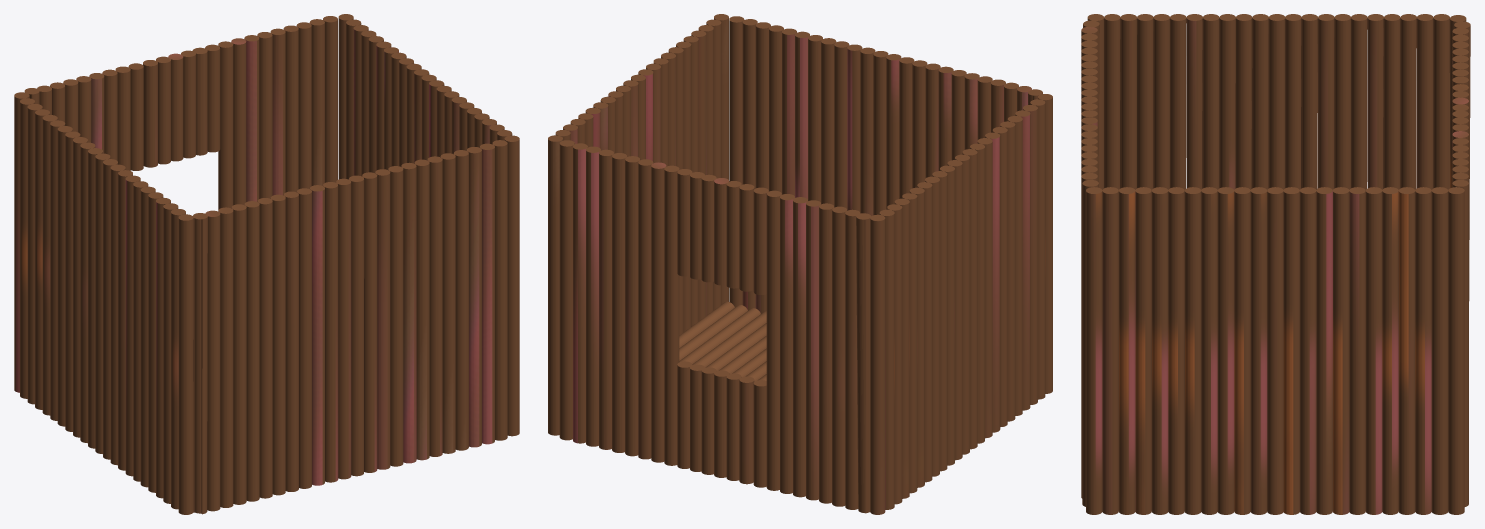
File: House.fbx
3 views of the same model, side by side, from view 1: azimuth 30°, elevation 25°; view 2: azimuth 150°, elevation 25°; view 3: azimuth 270°, elevation 25° (orthographic). The views are drawn at different scales.
Visible parts, largest first — view 1: Cylinder.004; view 2: Cylinder.004; view 3: Cylinder.004.
Boxes of the visible parts, <box> form: Cylinder.004: <box>14,14,519,514</box>; Cylinder.004: <box>548,14,1052,514</box>; Cylinder.004: <box>1081,14,1470,514</box>.
Size of the model in its own units: 20.66 by 17.19 by 18.87.
Materials: 1 (1 with a texture image).
